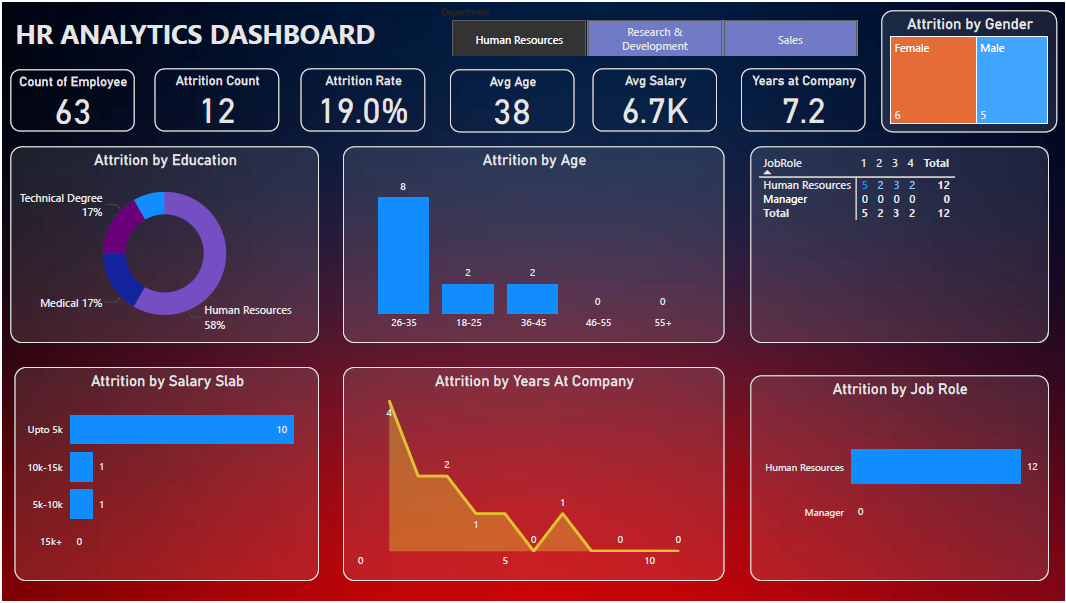

The dashboard page shown, as its layout file describes it:
{"tool":"powerbi","page":{"name":"Page 1","canvas":[1280,720],"ordinal":0},"visuals":[{"type":"textbox","box":[10,8.6,455.7,54.3],"z":0},{"type":"card","title":"Count of Employee","fields":{"Values":["CountNonNull(HR_Analytics.EmpID)"]},"box":[8.6,80.4,150,75],"z":1000},{"type":"card","title":"Avg Salary","fields":{"Values":["Avg(HR_Analytics.MonthlyIncome)"]},"box":[711.4,78.9,150,75.7],"z":2000},{"type":"card","title":"Avg Age","fields":{"Values":["Avg(HR_Analytics.Age)"]},"box":[538.6,80.4,150,75.7],"z":3000},{"type":"card","title":"Attrition Rate","fields":{"Values":["HR_Analytics.AttrtionRate"]},"box":[358.6,78.9,150,75.7],"z":4000},{"type":"card","title":"Attrition Count","fields":{"Values":["Sum(HR_Analytics.AttritionCount)"]},"box":[182.9,78.9,150,75.7],"z":5000},{"type":"card","title":"Years at Company","fields":{"Values":["Avg(HR_Analytics.YearsAtCompany)"]},"box":[890,78.9,150,75.7],"z":6000},{"type":"donutChart","title":"Attrition by Education","fields":{"Category":["HR_Analytics.EducationField"],"Y":["Sum(HR_Analytics.AttritionCount)"]},"box":[8.6,172.9,372.9,237.1],"z":7000},{"type":"columnChart","title":"Attrition by Age","fields":{"Category":["HR_Analytics.AgeGroup"],"Y":["Sum(HR_Analytics.AttritionCount)"]},"box":[410,172.9,460,237.1],"z":8000},{"type":"pivotTable","fields":{"Rows":["HR_Analytics.JobRole"],"Columns":["HR_Analytics.JobSatisfaction"],"Values":["Sum(HR_Analytics.AttritionCount)"]},"box":[901.4,172.9,360,237.1],"z":9000},{"type":"barChart","title":"Attrition by Salary Slab","fields":{"Category":["HR_Analytics.SalarySlab"],"Y":["Sum(HR_Analytics.AttritionCount)"]},"box":[14.3,438.6,367.1,258.6],"z":10000},{"type":"barChart","title":"Attrition by Job Role","fields":{"Y":["Sum(HR_Analytics.AttritionCount)"],"Category":["HR_Analytics.JobRole"]},"box":[901.4,448.6,360,248.6],"z":11000},{"type":"areaChart","title":"Attrition by Years At Company","fields":{"Category":["HR_Analytics.YearsAtCompany"],"Y":["Sum(HR_Analytics.AttritionCount)"]},"box":[410,438.6,460,258.6],"z":12000},{"type":"treemap","title":"Attrition by Gender","fields":{"Group":["HR_Analytics.Gender"],"Values":["Sum(HR_Analytics.AttritionCount)"]},"box":[1058.8,8.8,212.5,147.5],"z":13000},{"type":"slicer","fields":{"Values":["HR_Analytics.Department"]},"box":[515.7,0,538.6,64.3],"z":14000}]}

Visuals, with their boxes in screenshot pixels (x1, y1, x2, y2), scaled from the page's 1280x720 canvas onto the 1066x603 screenshot:
textbox: x1=8, y1=7, x2=388, y2=53
"Count of Employee" card: x1=7, y1=67, x2=132, y2=130
"Avg Salary" card: x1=592, y1=66, x2=717, y2=129
"Avg Age" card: x1=449, y1=67, x2=573, y2=131
"Attrition Rate" card: x1=299, y1=66, x2=424, y2=129
"Attrition Count" card: x1=152, y1=66, x2=277, y2=129
"Years at Company" card: x1=741, y1=66, x2=866, y2=129
"Attrition by Education" donutChart: x1=7, y1=145, x2=318, y2=343
"Attrition by Age" columnChart: x1=341, y1=145, x2=725, y2=343
pivotTable - HR_Analytics.JobRole x HR_Analytics.JobSatisfaction: x1=751, y1=145, x2=1051, y2=343
"Attrition by Salary Slab" barChart: x1=12, y1=367, x2=318, y2=584
"Attrition by Job Role" barChart: x1=751, y1=376, x2=1051, y2=584
"Attrition by Years At Company" areaChart: x1=341, y1=367, x2=725, y2=584
"Attrition by Gender" treemap: x1=882, y1=7, x2=1059, y2=131
slicer - HR_Analytics.Department: x1=429, y1=0, x2=878, y2=54
